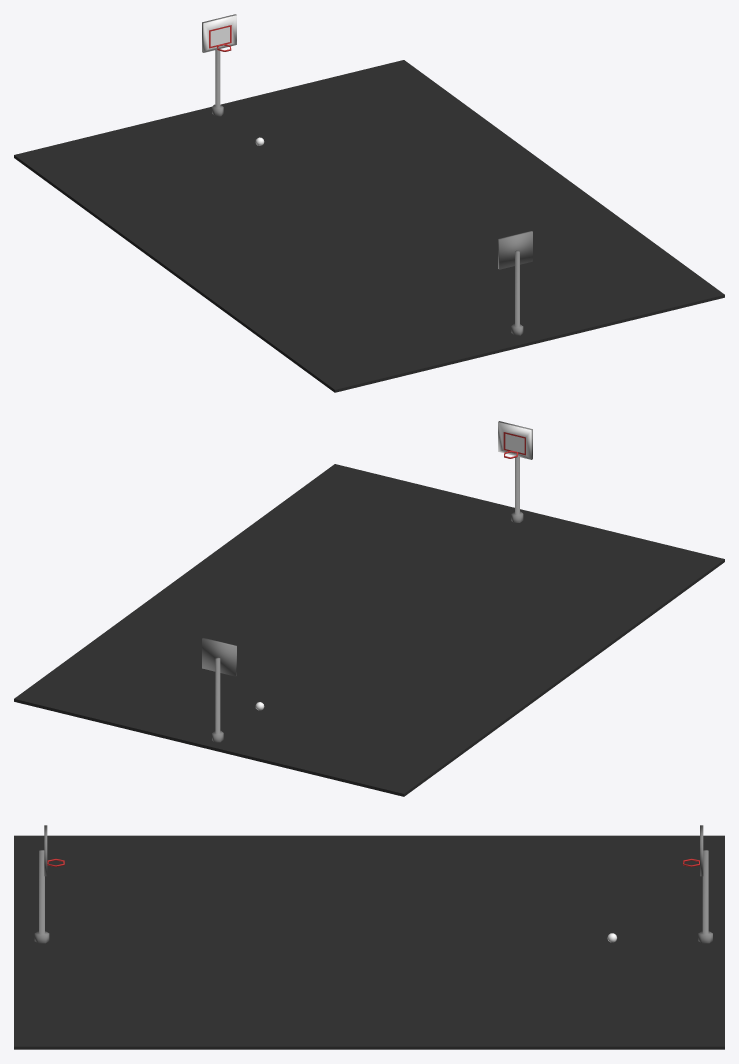
File: Basketball court.fbx
The picture shows the model from 3 angles, top to bottom: view 1: azimuth 30°, elevation 25°; view 2: azimuth 150°, elevation 25°; view 3: azimuth 270°, elevation 25°; orthographic projection. The views are drawn at different scales.
Visible parts, largest first — view 1: Plane.002, Cylinder, Cylinder.001; view 2: Plane.002, Cylinder, Cylinder.001; view 3: Plane.002, Cylinder, Cylinder.001.
Part boxes in pixels (box(x1,y1,x2,y2)): Plane.002: box(14, 60, 724, 392); Cylinder: box(202, 14, 236, 116); Cylinder.001: box(498, 231, 532, 335); Plane.002: box(14, 464, 724, 796); Cylinder: box(202, 637, 236, 742); Cylinder.001: box(498, 421, 532, 522); Plane.002: box(14, 835, 724, 1049); Cylinder: box(683, 825, 712, 943); Cylinder.001: box(34, 825, 64, 943).
Bounding box in the file's own units: 2 × 0.4887 × 2.85.
